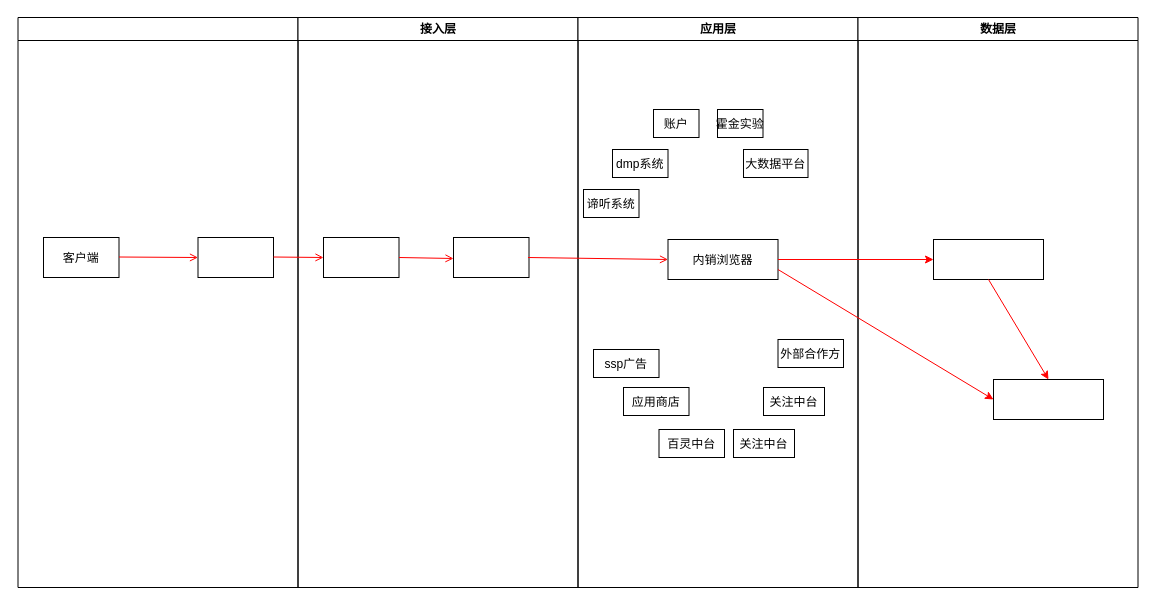
Some shapes in this 1155 by 605 pixel diagram are drawn without their labels. Here are the shapes that lost their labels. From the top down, the centre of each, then its label:
point 235,257: CDN
point 360,257: LVS
point 490,257: NGINX
point 988,259: redis
point 1048,399: mysql
